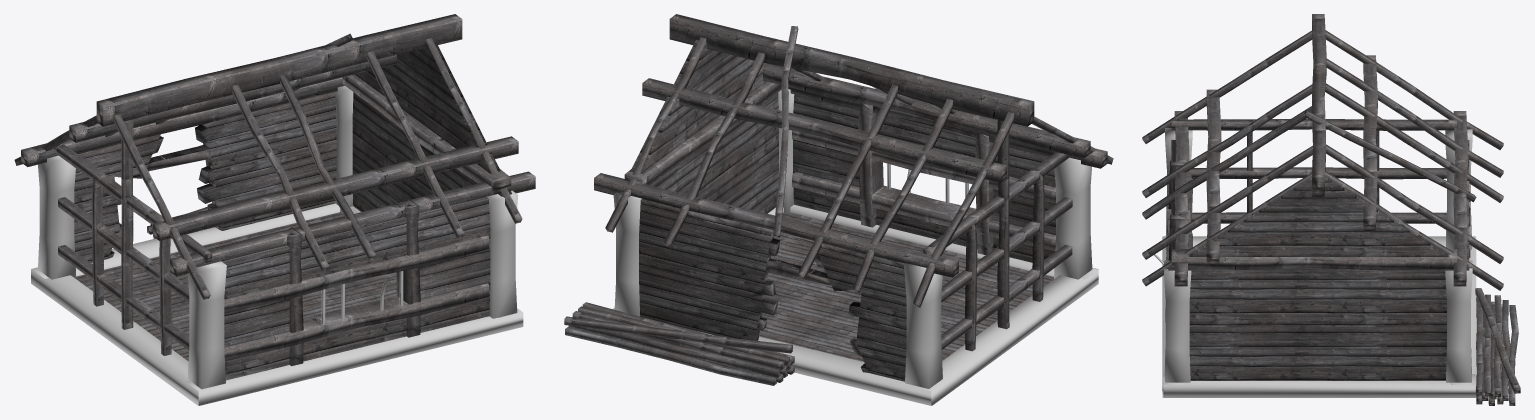
Rendered from ruins_house2.fbx.
3 views of the same model, side by side, from view 1: azimuth 30°, elevation 25°; view 2: azimuth 150°, elevation 25°; view 3: azimuth 270°, elevation 25° (orthographic). The views are drawn at different scales.
Visible parts, largest first — view 1: WoodPlanks; view 2: WoodPlanks; view 3: WoodPlanks.
Part boxes in pixels (x1=…): WoodPlanks: x1=14, y1=14, x2=535, y2=405; WoodPlanks: x1=564, y1=14, x2=1113, y2=405; WoodPlanks: x1=1142, y1=14, x2=1520, y2=405.
Bounding box in the file's own units: 1002 × 686 × 970.
